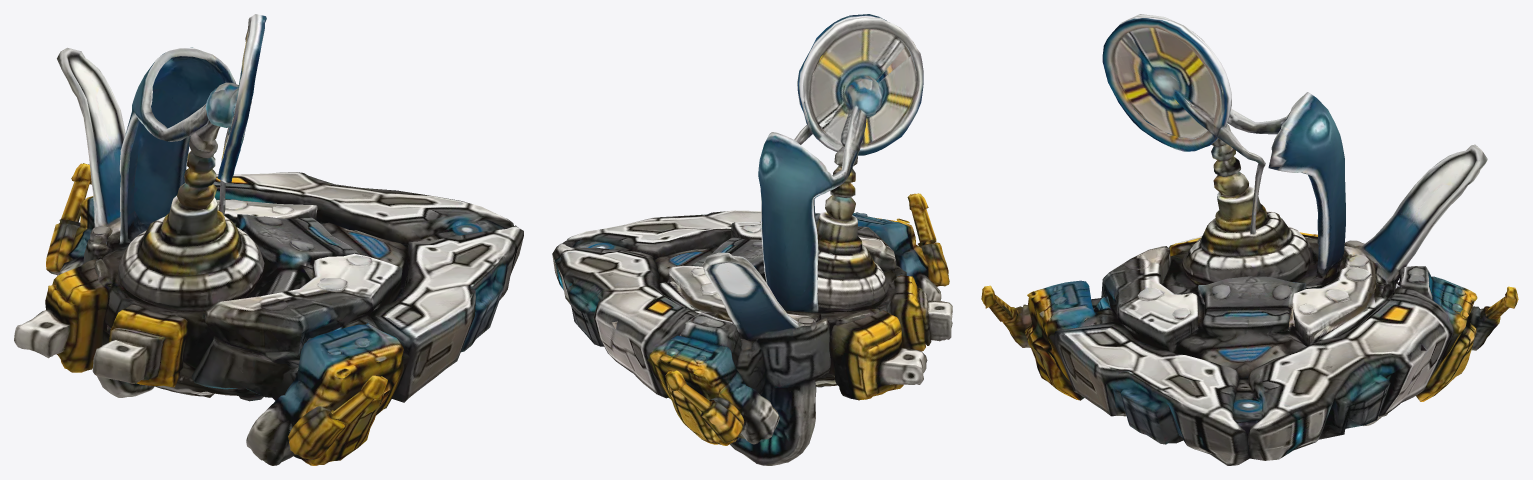
3 renders of one model, left to right at view 1: azimuth 30°, elevation 25°; view 2: azimuth 150°, elevation 25°; view 3: azimuth 270°, elevation 25°, orthographic. The views are drawn at different scales.
Parts seen in each view (by area): view 1: chassis; view 2: chassis; view 3: chassis.
Part boxes in pixels (x1,y1,x2,y2): chassis: (14,14,523,465); chassis: (552,14,952,465); chassis: (981,14,1518,465).
Size of the model in its own units: 0.9006 by 0.8266 by 0.99.
Materials: 1 (1 with a texture image).
